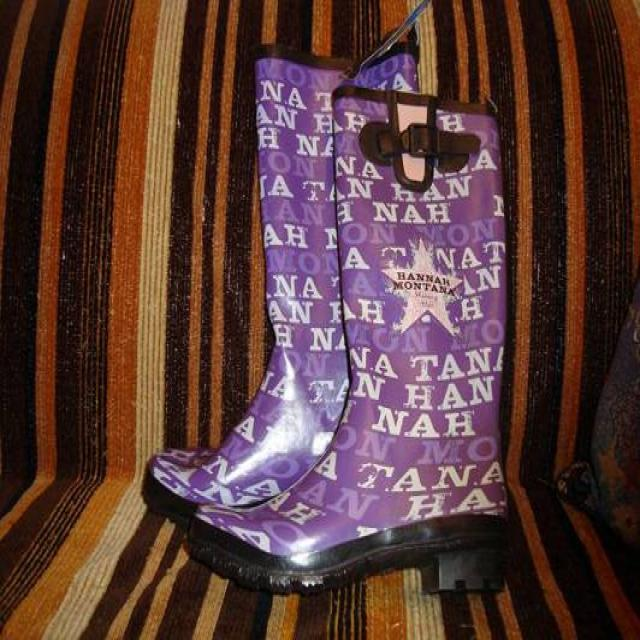Clothes -Biodegradable-: (143, 47, 508, 596)
